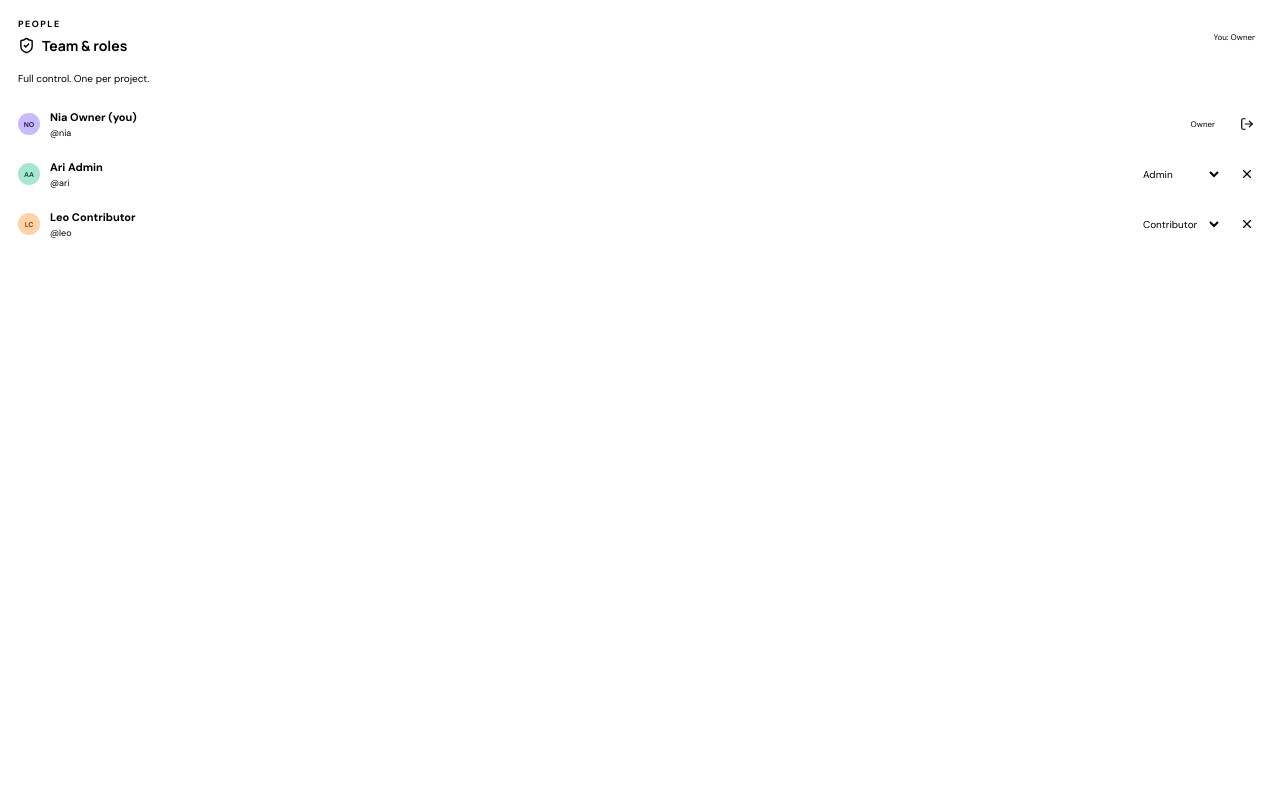
it: Remove a member (US-13) › removes after confirming and updates the team
Click the button named "Remove Leo Contributor" at (1247, 224), box x1=1232 y1=209 x2=1262 y2=239
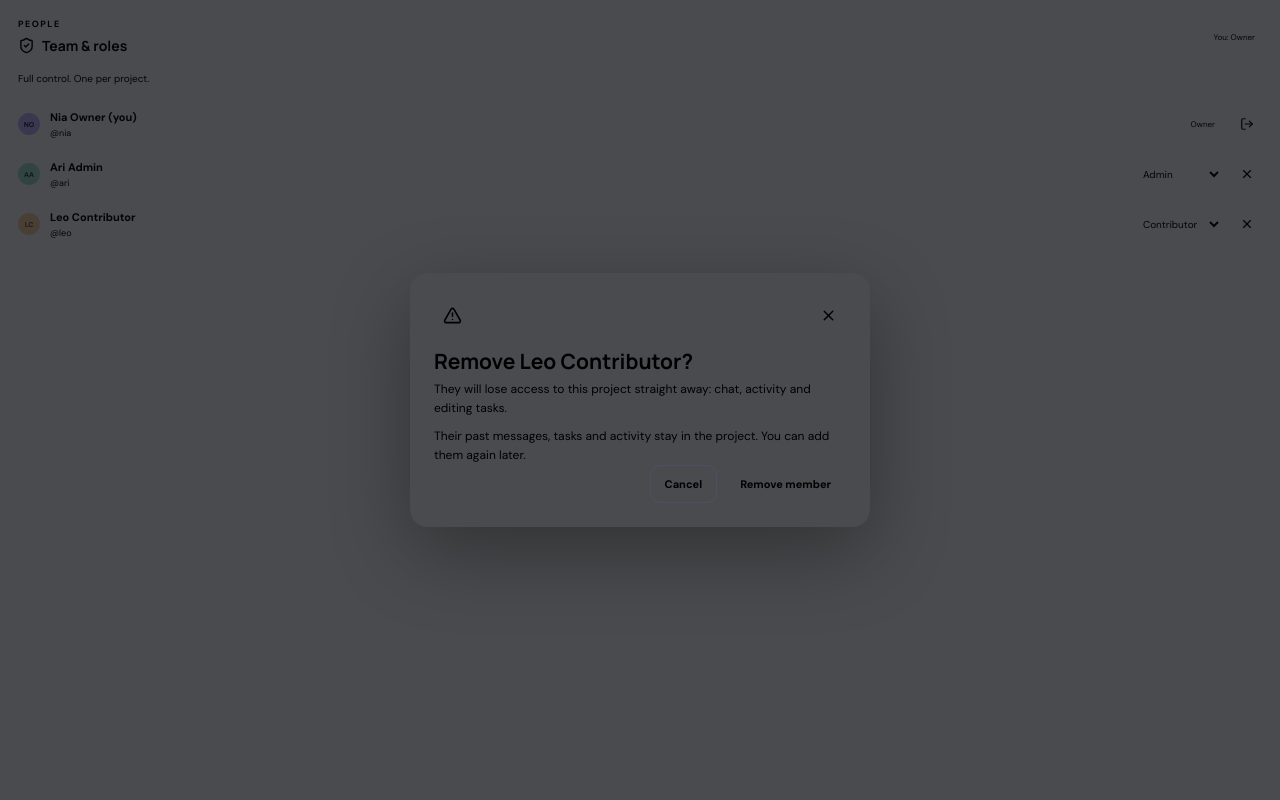
Click the button "Remove member" at (786, 484), box x1=725 y1=465 x2=846 y2=503
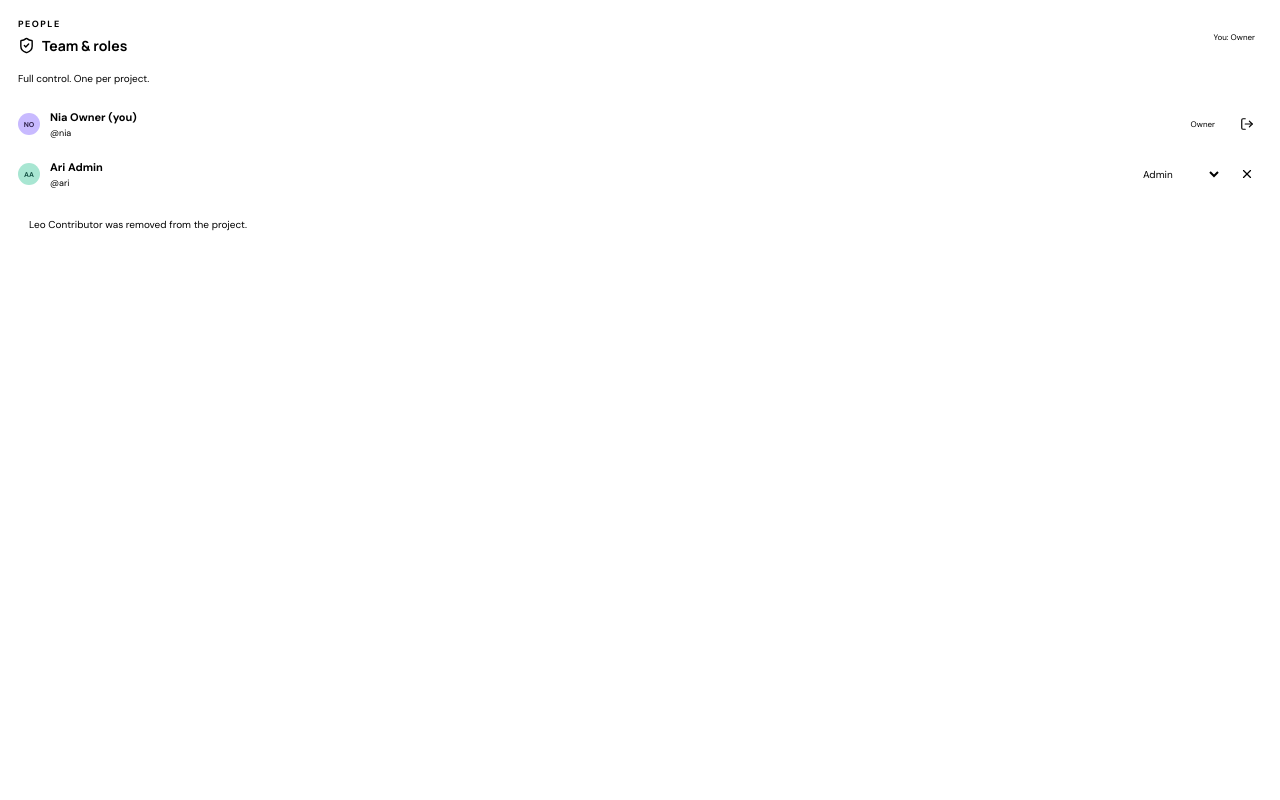
Check: the text "Leo Contributor was removed from the project." is shown, box x1=29 y1=218 x2=247 y2=231
Check: the dialog is gone
